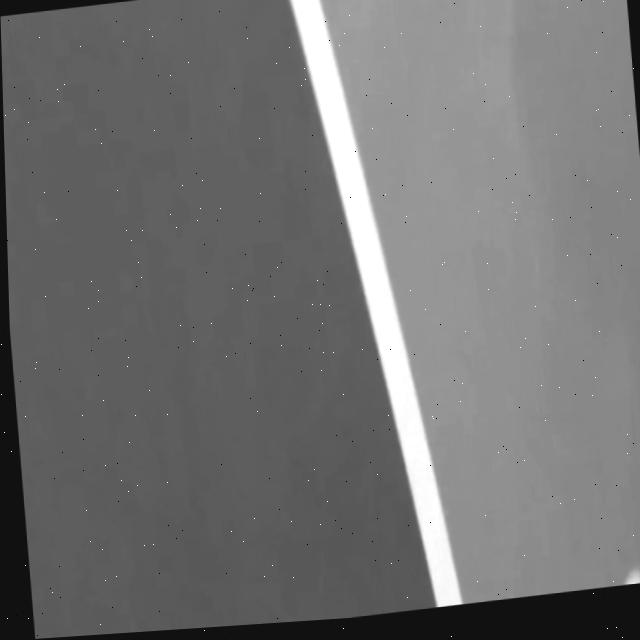right: (289, 0, 462, 607)
